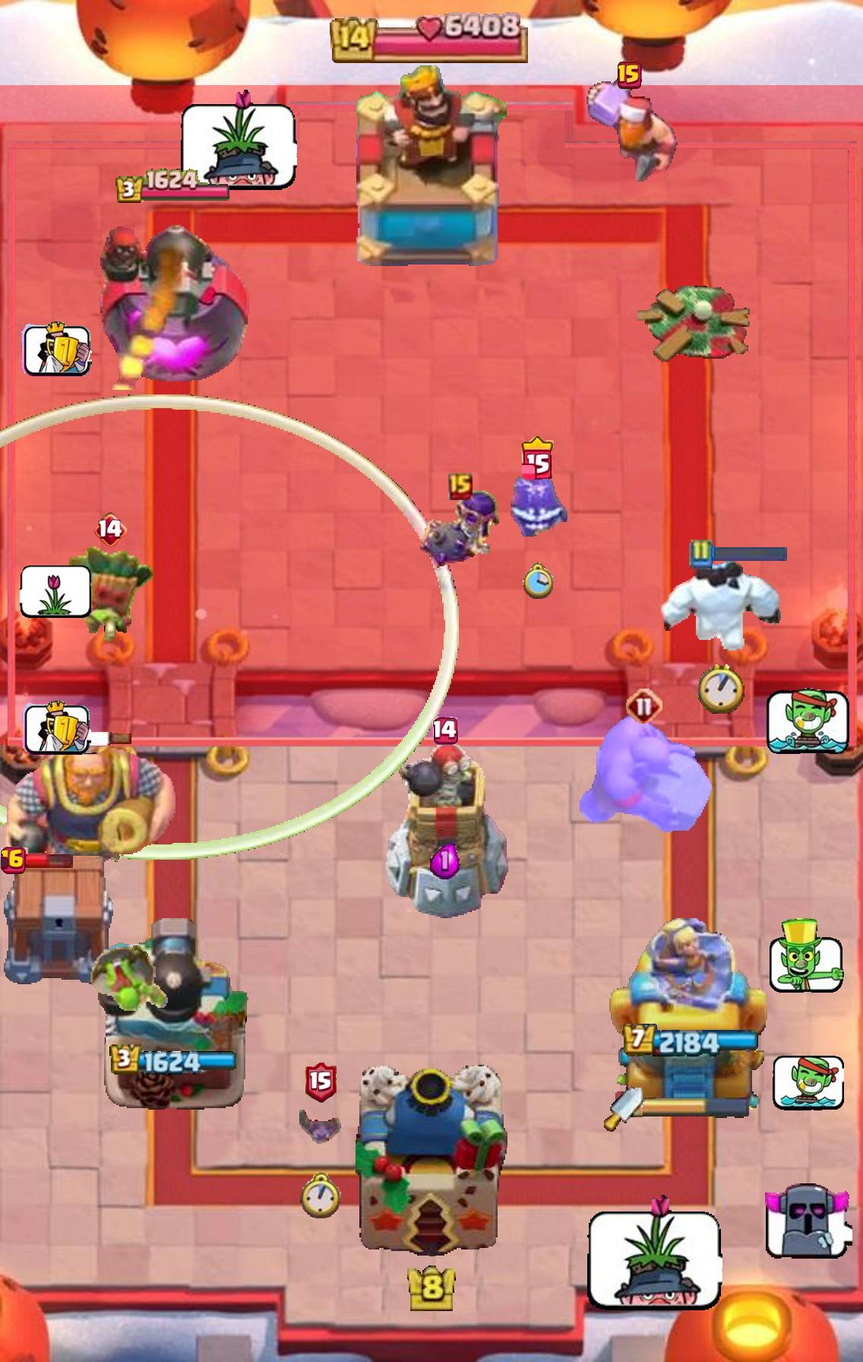bar: (21, 852, 74, 870), (77, 731, 132, 746)
bar-level: (522, 436, 554, 480), (626, 688, 662, 724), (305, 1062, 337, 1102), (94, 512, 128, 546), (0, 846, 27, 874), (432, 717, 458, 745), (618, 60, 642, 89), (448, 473, 473, 500)
